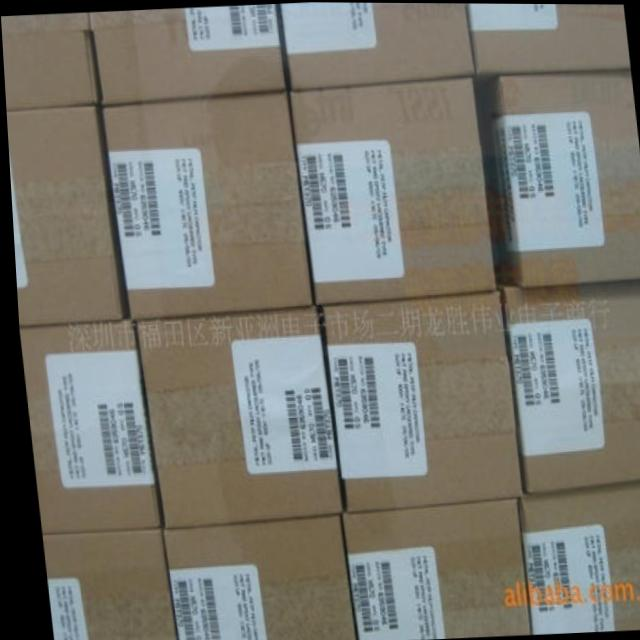box: (100, 92, 309, 318), (287, 74, 493, 303), (131, 305, 338, 528), (317, 290, 519, 514), (475, 66, 640, 287), (499, 278, 640, 491), (18, 317, 156, 532), (337, 496, 523, 639), (5, 104, 124, 326), (156, 515, 349, 640), (89, 4, 285, 103), (514, 479, 640, 631), (279, 2, 474, 90), (35, 525, 168, 640), (466, 3, 629, 74), (1, 16, 98, 108)
